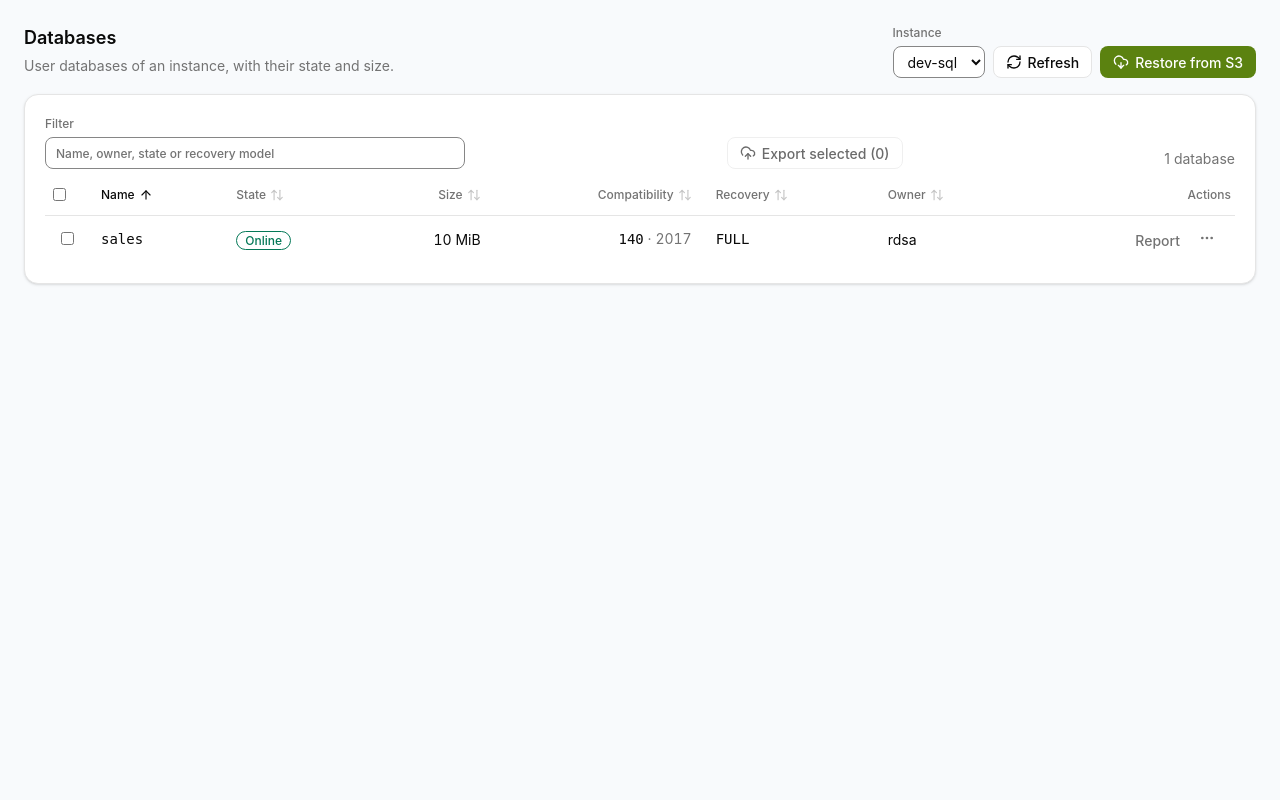
the access panel › shows a refused read like elsewhere, and the 428 through the password banner
Expected: the column heading "Actions" is shown, [1019, 181, 1235, 215]
Click the button named "Actions for sales": (1207, 238) [1191, 224, 1223, 252]
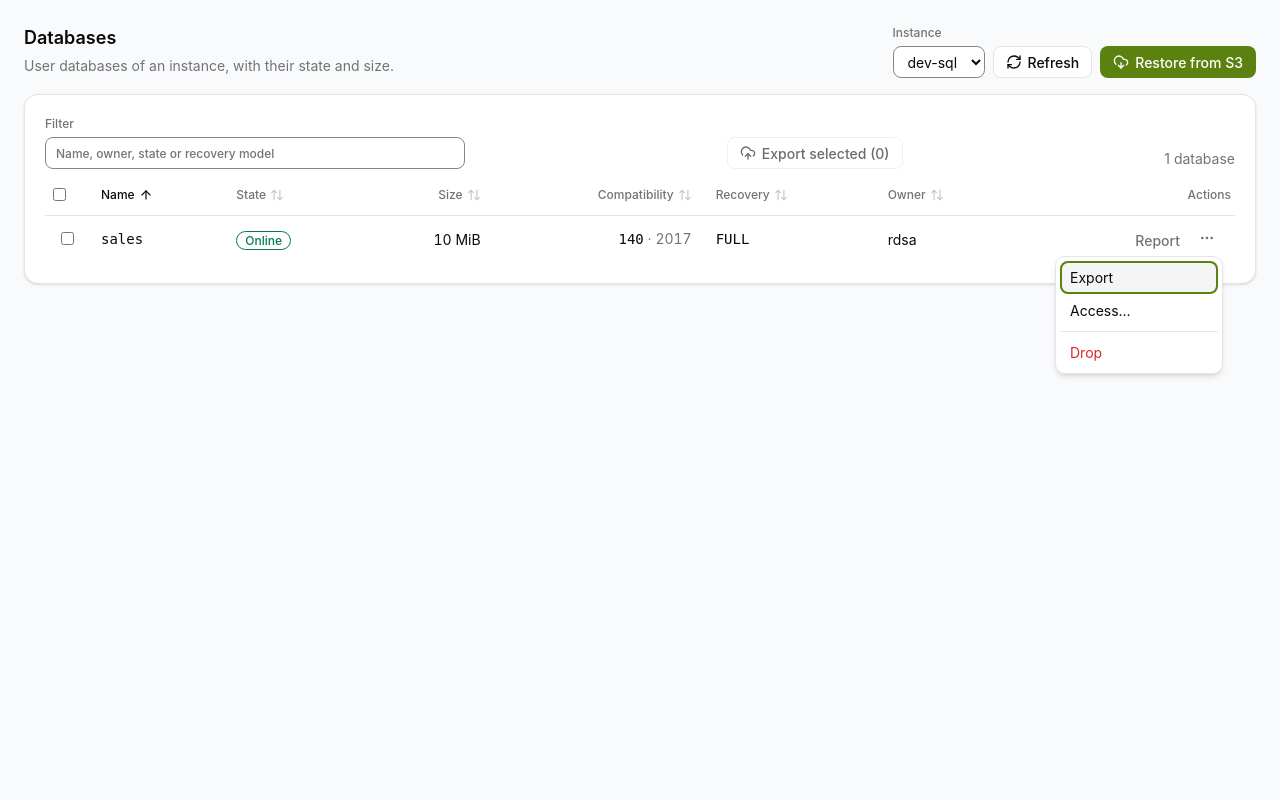
Result: the menu is shown at [1055, 256, 1223, 374]
Click the menu item with aria-label "Access to sales": (1139, 310) [1060, 294, 1218, 327]
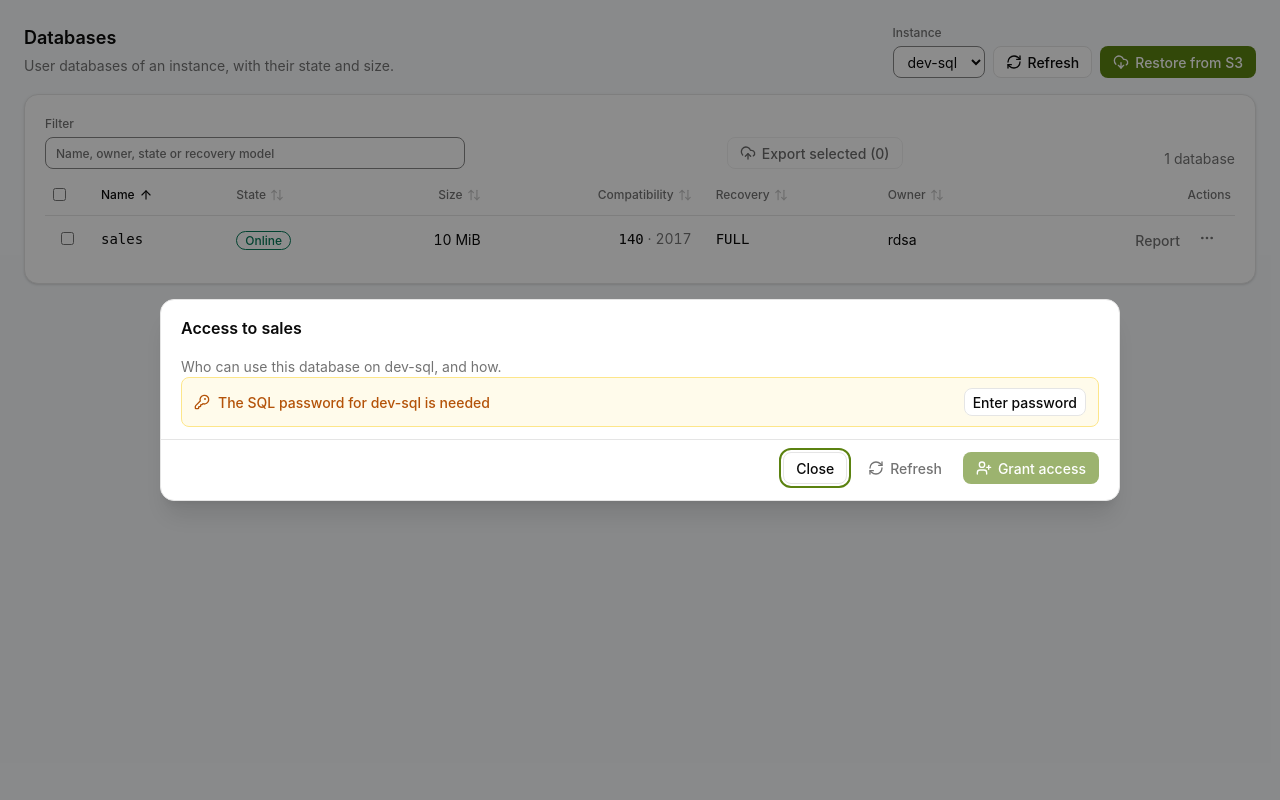
Result: the text "The SQL password for dev-sql is needed" is shown at [218, 394, 490, 410]
Result: the button with aria-label "Enter password for dev-sql" is shown at [964, 388, 1086, 416]
